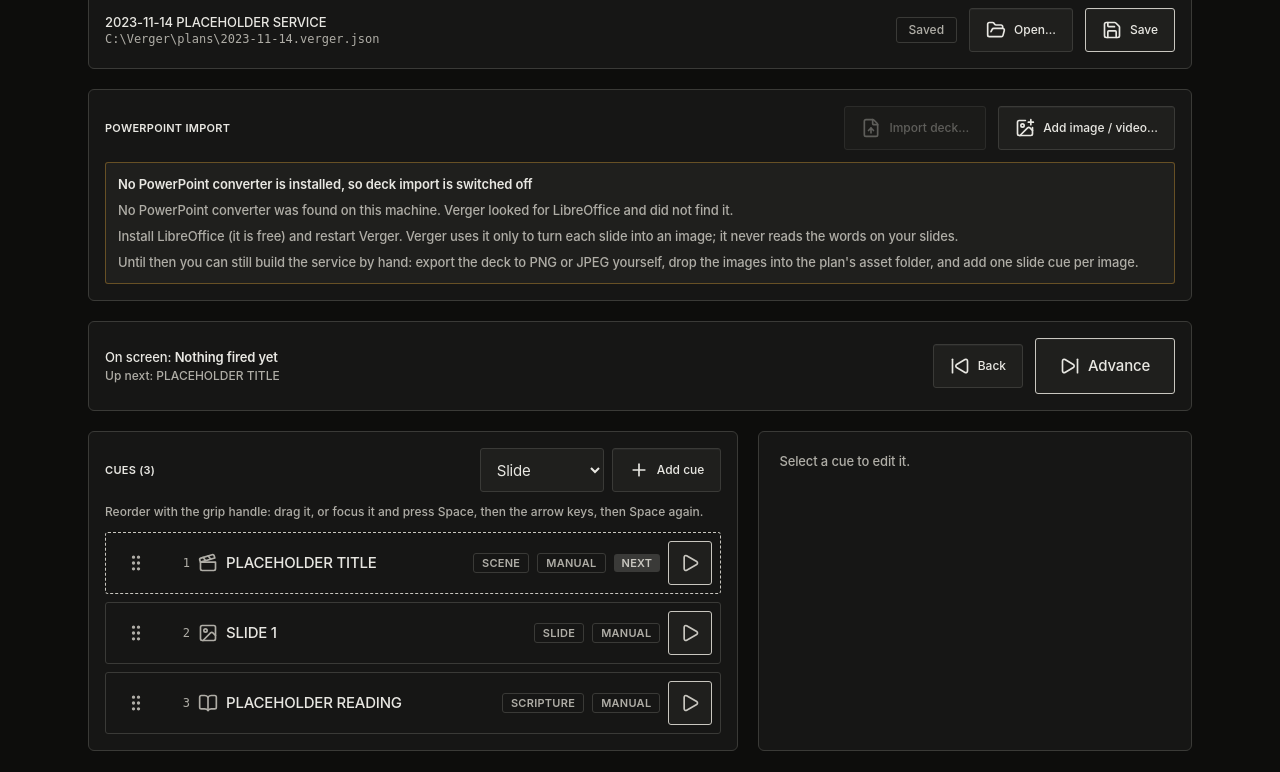
Test: PlanEditor › offers a scripture cue a reference and no text box, and says why
The width and height of the screenshot is (1280, 772).
(page scrolled)
Click the button with test id "cue-select-cue-reading".
click(360, 703)  # box [226,693,494,713]
(page scrolled)
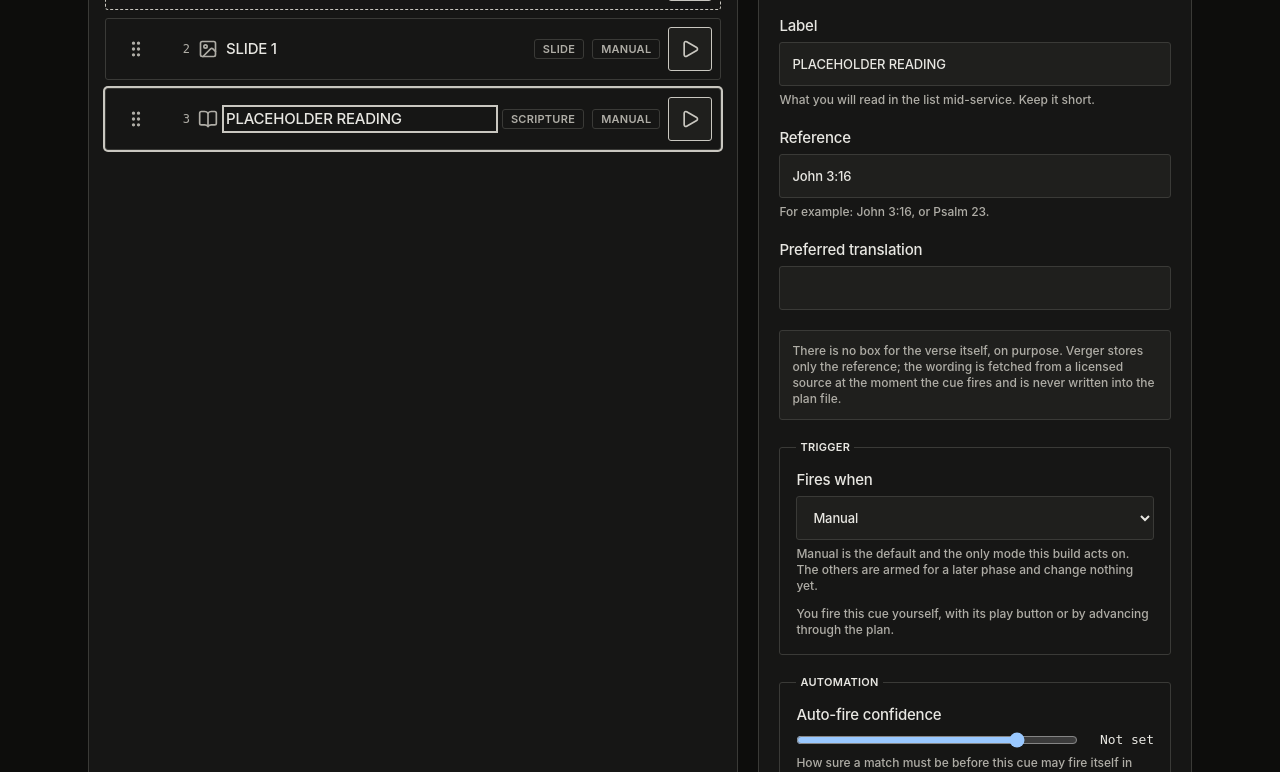
Check: the field labelled "Reference" holds "John 3:16", box [779,154,1171,198]
Check: the text with test id "scripture-no-text-note" shows "never written into the plan file", box [792,343,1154,406]
